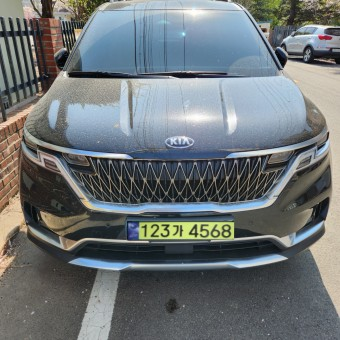car: (124, 218, 236, 243)
